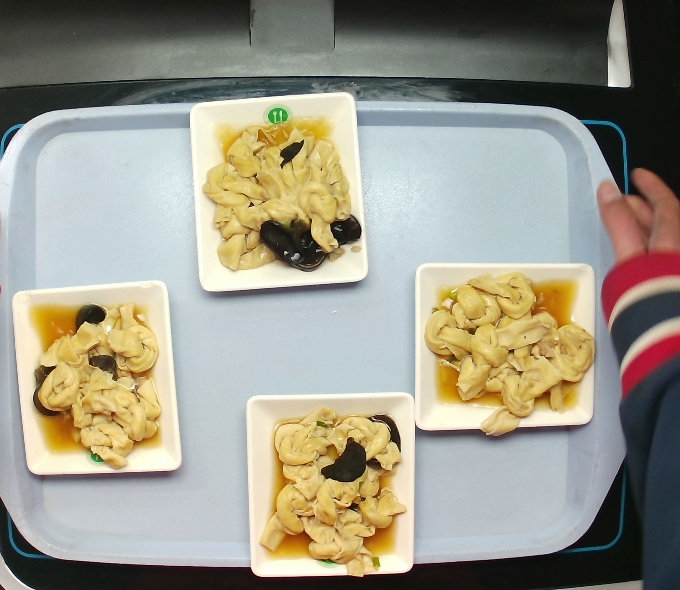wcq-QianZhangJie: (422, 274, 591, 430), (257, 408, 412, 570), (209, 114, 358, 276), (22, 303, 168, 466)
